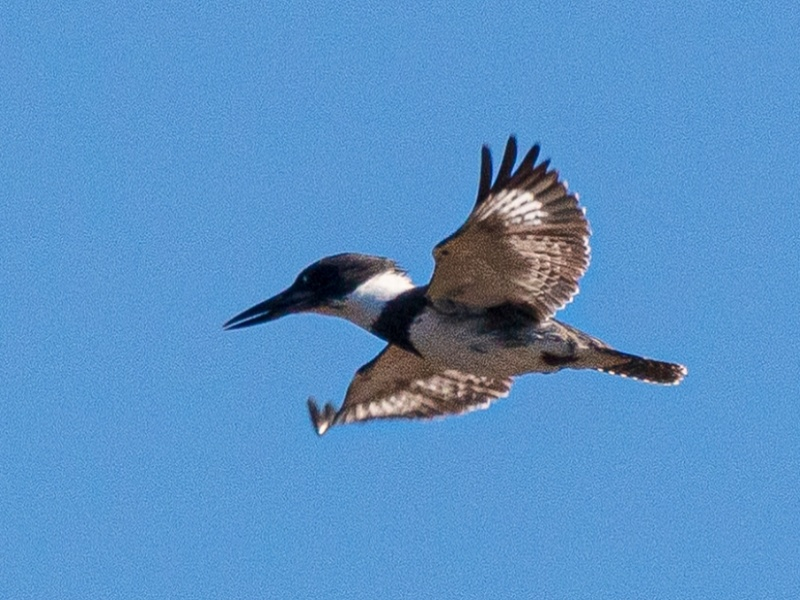kingfisher: (217, 134, 691, 449)
